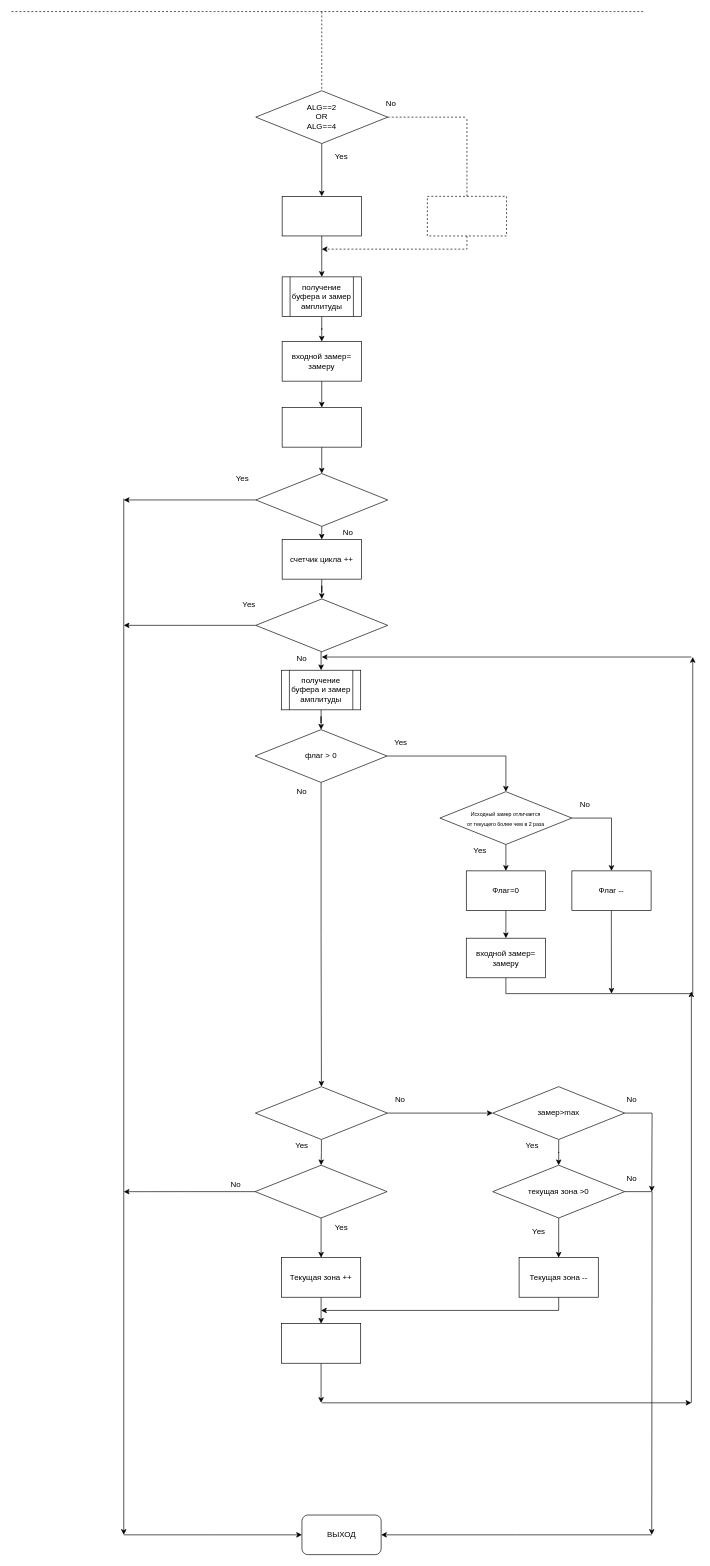
Some shapes in this 710 by 1566 pixel diagram are drawn without their labels. The centre of each missing label's shape, as x and y in pixels:
"bufersize=2048" belongs at (467,216).
"bufersize=300000" belongs at (321,216).
"min<замер<max" belongs at (321,499).
"min>замер" belongs at (321,1112).
"Счетчик цикла > 8" belongs at (321,625).
"счетчик цикла=0" belongs at (321,427).
"текущая зона < 5" belongs at (320,1191).
"Флаг=10" belongs at (321,1343).
